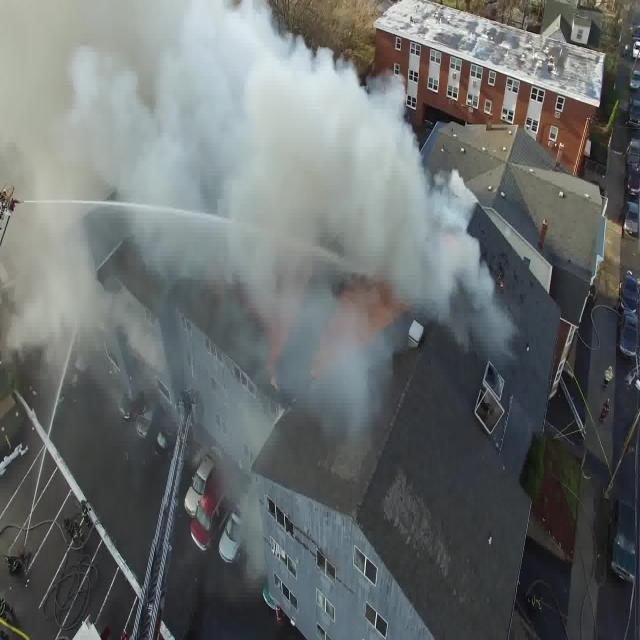Smoke: (0, 0, 475, 265), (0, 275, 411, 358)
